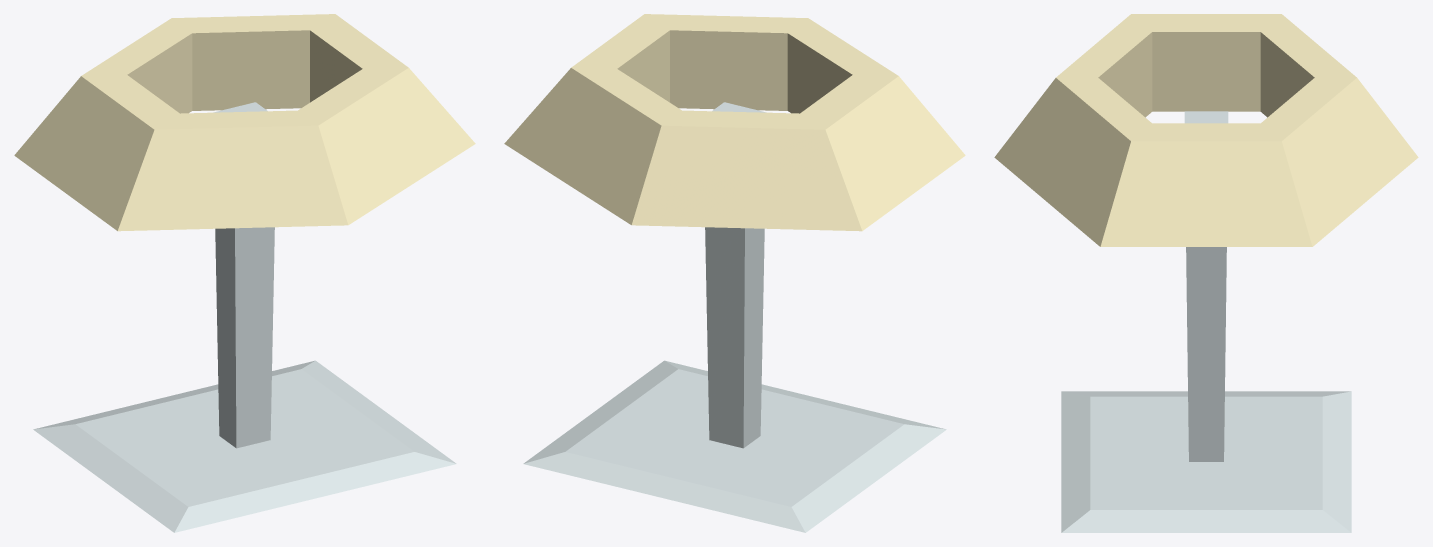
File: kn-lamp-round-floor.glb
The picture shows the model from 3 angles, left to right: view 1: azimuth 30°, elevation 25°; view 2: azimuth 150°, elevation 25°; view 3: azimuth 270°, elevation 25°; orthographic projection. The views are drawn at different scales.
Visible parts, largest first — view 1: lampRoundFloor(Clone); view 2: lampRoundFloor(Clone); view 3: lampRoundFloor(Clone).
Part boxes in pixels (x1,y1,x2,y2): lampRoundFloor(Clone): (14, 14, 475, 532); lampRoundFloor(Clone): (504, 14, 965, 532); lampRoundFloor(Clone): (994, 14, 1418, 532).
Bounding box in the file's own units: 1 × 1 × 1.
